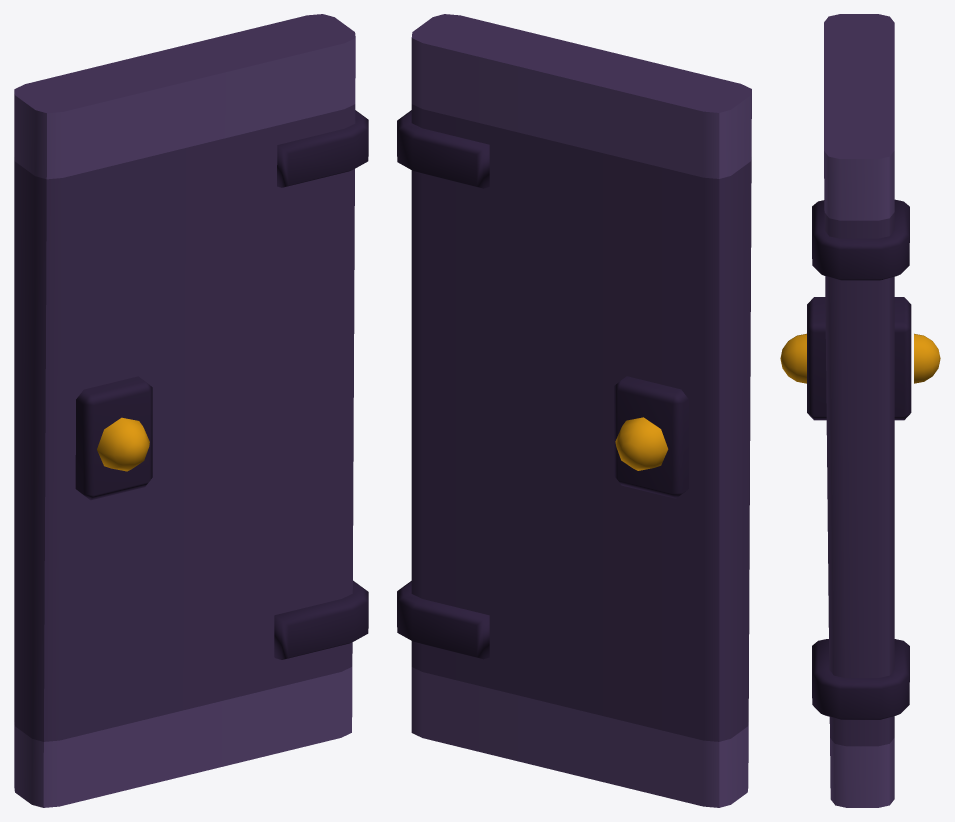
Rendered from Door.fbx.
3 views of the same model, side by side, from view 1: azimuth 30°, elevation 25°; view 2: azimuth 150°, elevation 25°; view 3: azimuth 270°, elevation 25° (orthographic). The views are drawn at different scales.
Visible parts, largest first — view 1: Door; view 2: Door; view 3: Door.
Part boxes in pixels (left/top/right/bottom): Door: left=14, top=14, right=368, bottom=807; Door: left=397, top=14, right=751, bottom=807; Door: left=780, top=14, right=940, bottom=807.
Size of the model in its own units: 200 by 400 by 89.49.
